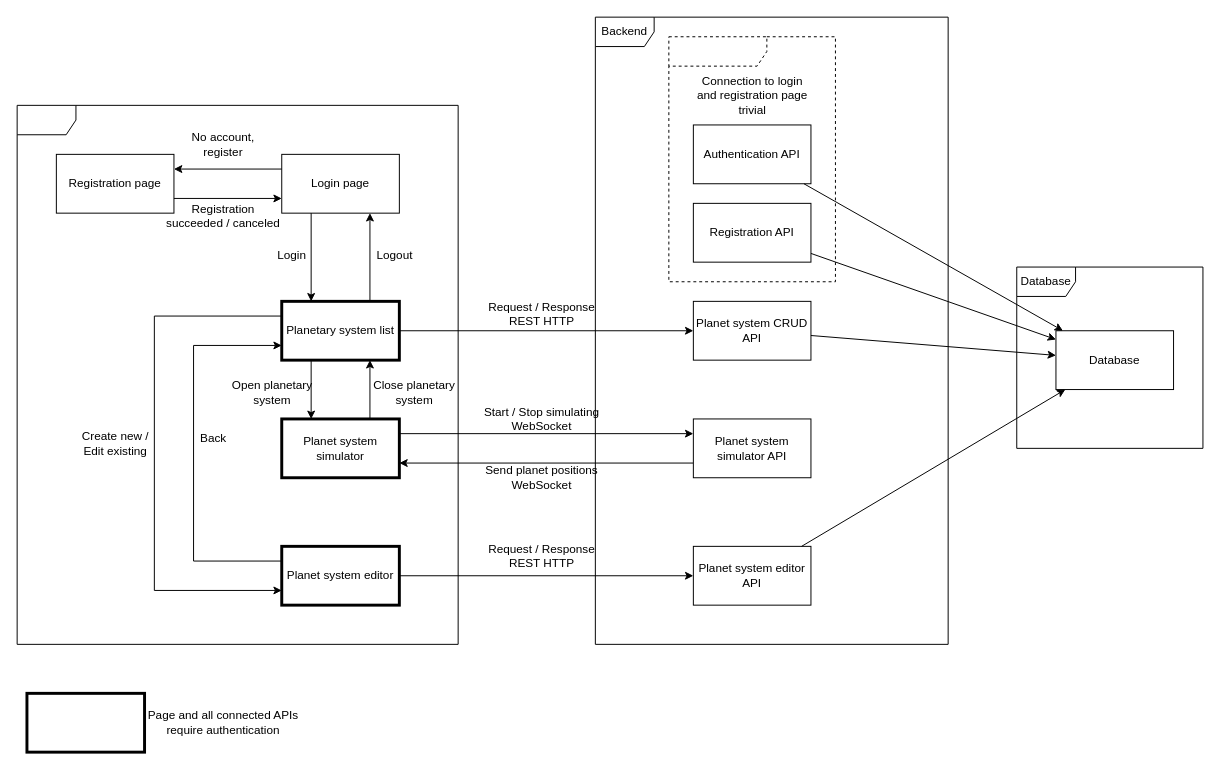
Image size: 1220x770. Some labels were removed from this diagram. The centre of each missing label's shape, as x and y in pixels:
"Auth components" belongs at point 751,159.
"Frontend" belongs at point 237,374.
